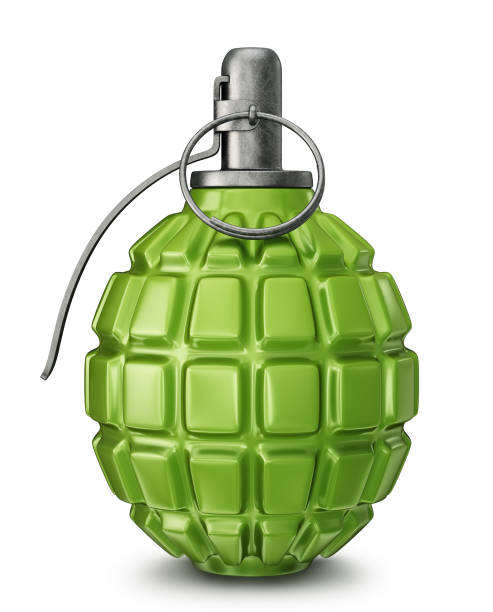e1: (41, 48, 420, 580)
